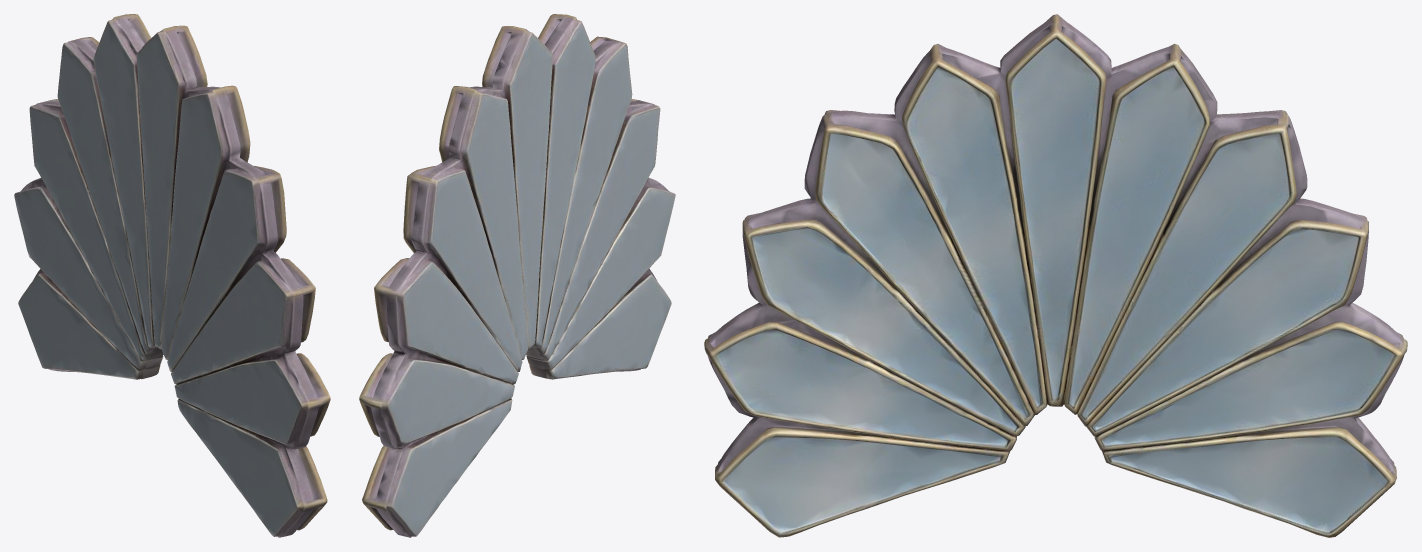
File: mirror_fan.glb
3 renders of one model, left to right at view 1: azimuth 30°, elevation 25°; view 2: azimuth 150°, elevation 25°; view 3: azimuth 270°, elevation 25°, orthographic. The views are drawn at different scales.
Visible parts, largest first — view 1: tripo_node_3d006e4f-bb65-4b5a-a28d-4e3d2069141a; view 2: tripo_node_3d006e4f-bb65-4b5a-a28d-4e3d2069141a; view 3: tripo_node_3d006e4f-bb65-4b5a-a28d-4e3d2069141a.
Boxes of the visible parts, <box> form: tripo_node_3d006e4f-bb65-4b5a-a28d-4e3d2069141a: <box>14,14,330,537</box>; tripo_node_3d006e4f-bb65-4b5a-a28d-4e3d2069141a: <box>359,14,675,537</box>; tripo_node_3d006e4f-bb65-4b5a-a28d-4e3d2069141a: <box>704,14,1407,537</box>.
Bounding box in the file's own units: 0.0647 × 0.8043 × 1.
Materials: 1 (1 with a texture image).
